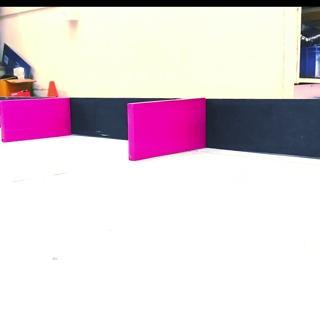xparking: (127, 103, 206, 149), (1, 101, 70, 136)
